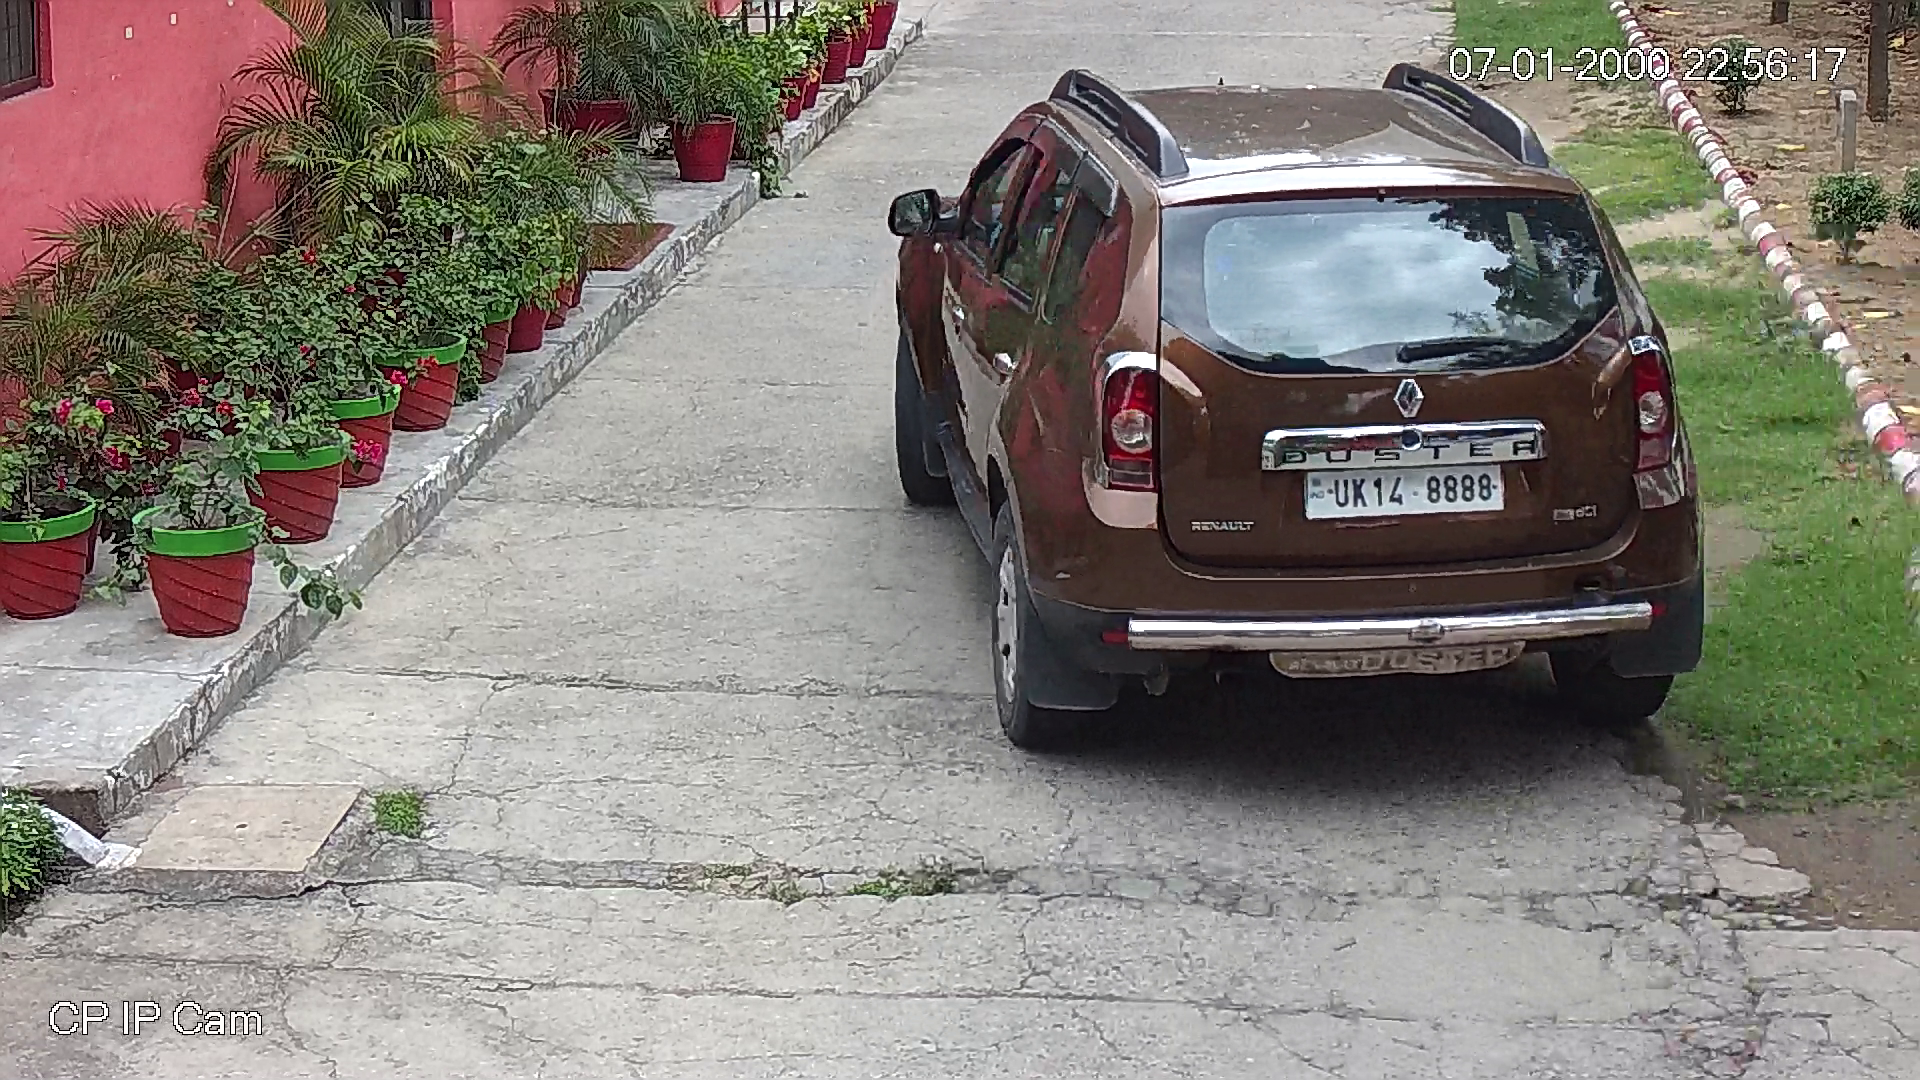plate: (1304, 465, 1502, 520)
